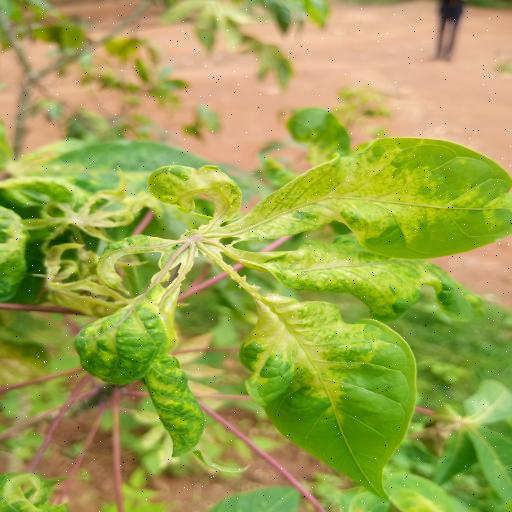Cassava_Mosaic: (77, 132, 512, 505)
